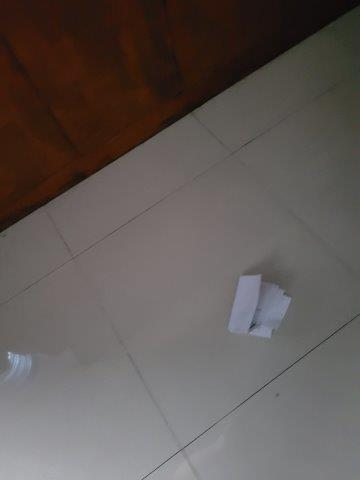kertas: (230, 274, 291, 342)
